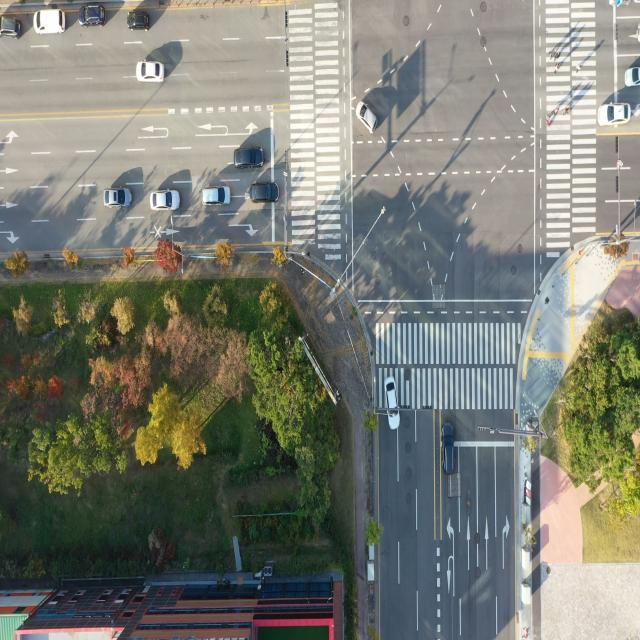car: (385, 369, 401, 434), (594, 98, 630, 126), (355, 95, 380, 135), (101, 179, 133, 210), (439, 422, 457, 474), (149, 188, 181, 216), (232, 140, 264, 168), (31, 11, 69, 34), (135, 56, 166, 84), (75, 3, 108, 26), (248, 180, 280, 203), (200, 184, 232, 206), (126, 9, 152, 33), (0, 13, 24, 39), (624, 66, 640, 88)
